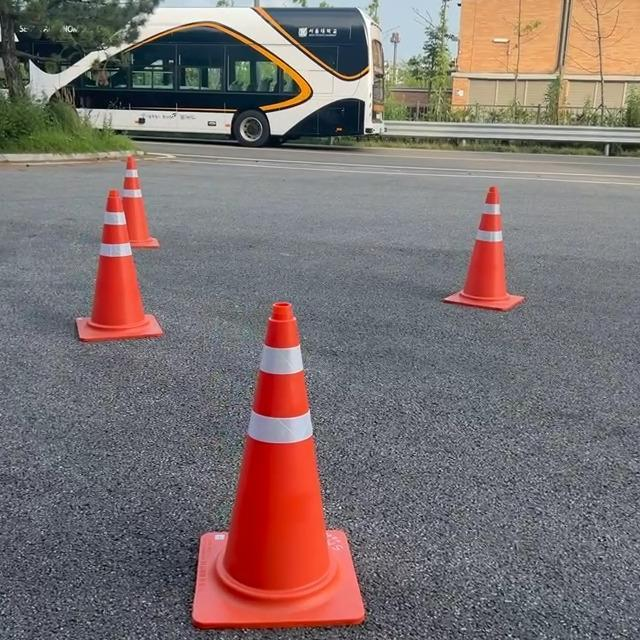fallen_object: (185, 278, 433, 639), (432, 159, 552, 387), (69, 197, 195, 369), (79, 130, 168, 269)
